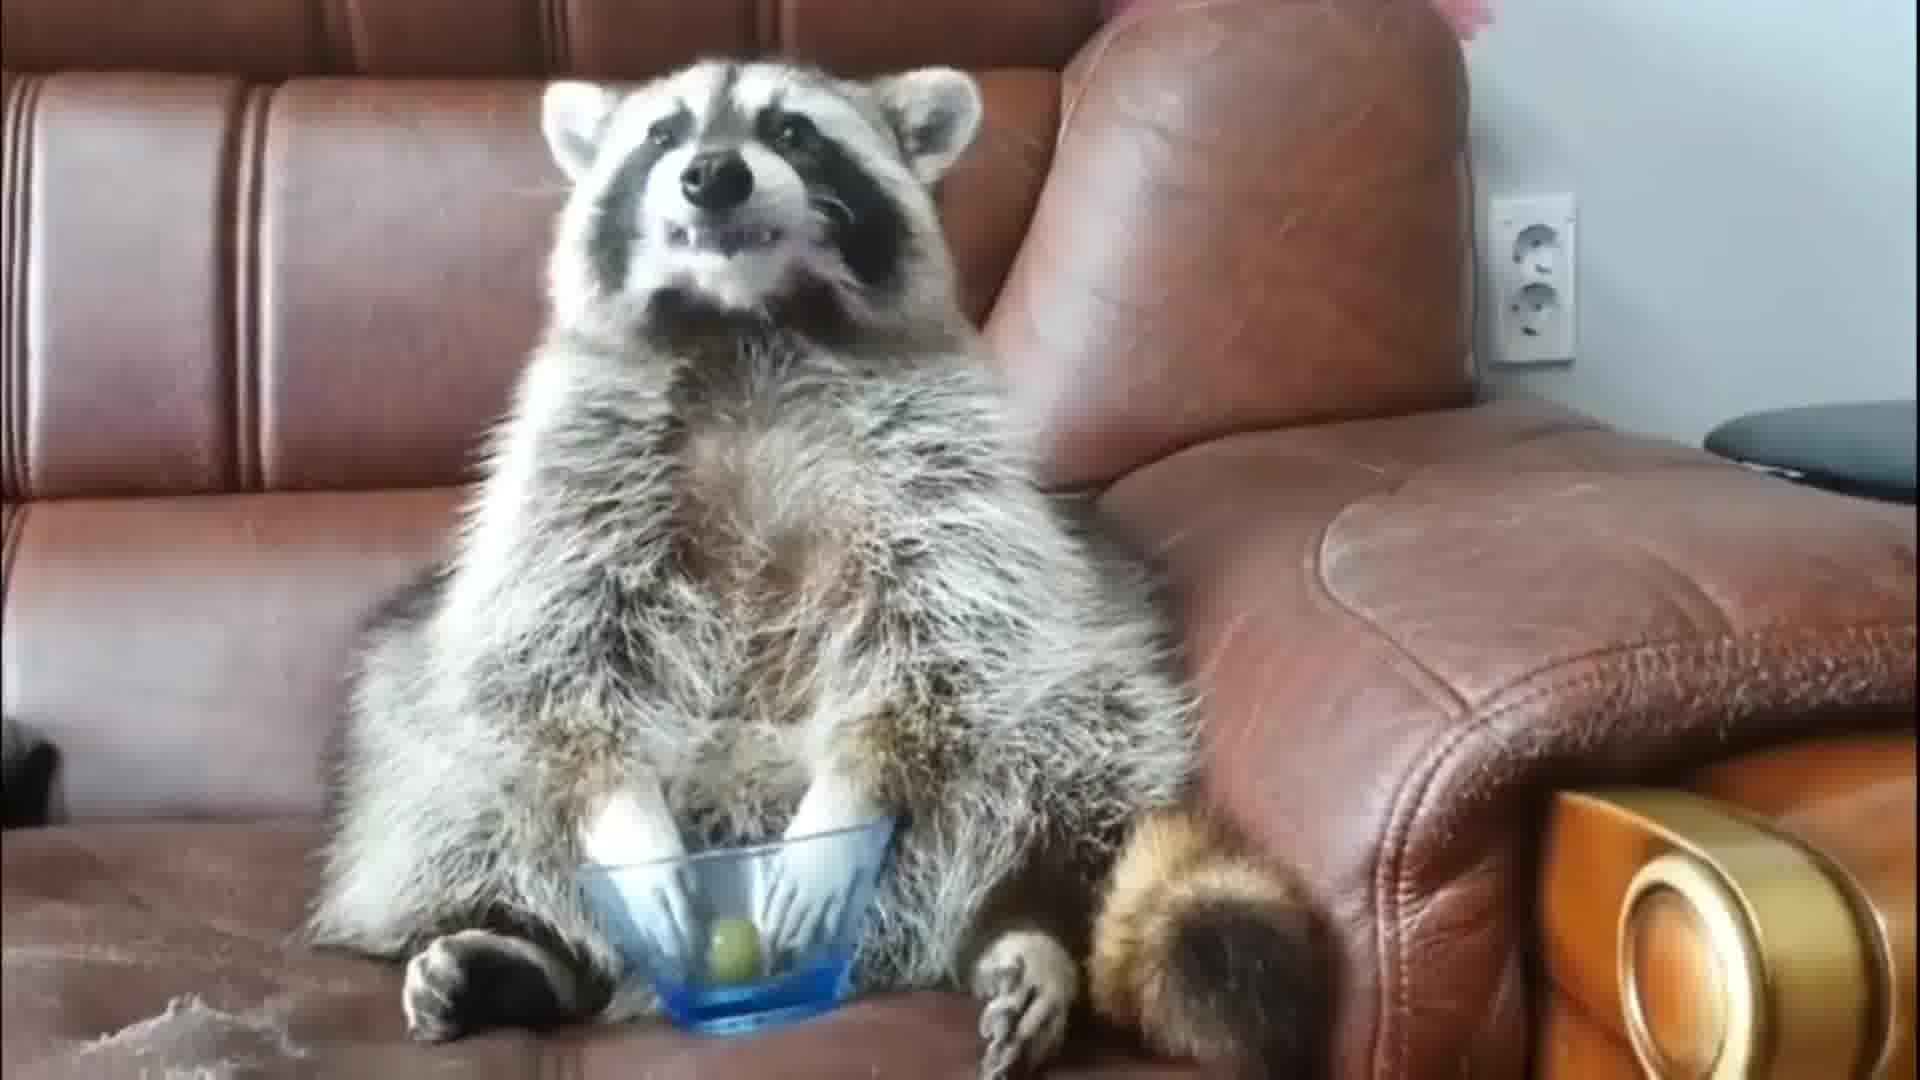raccoon: (306, 34, 1346, 1080)
